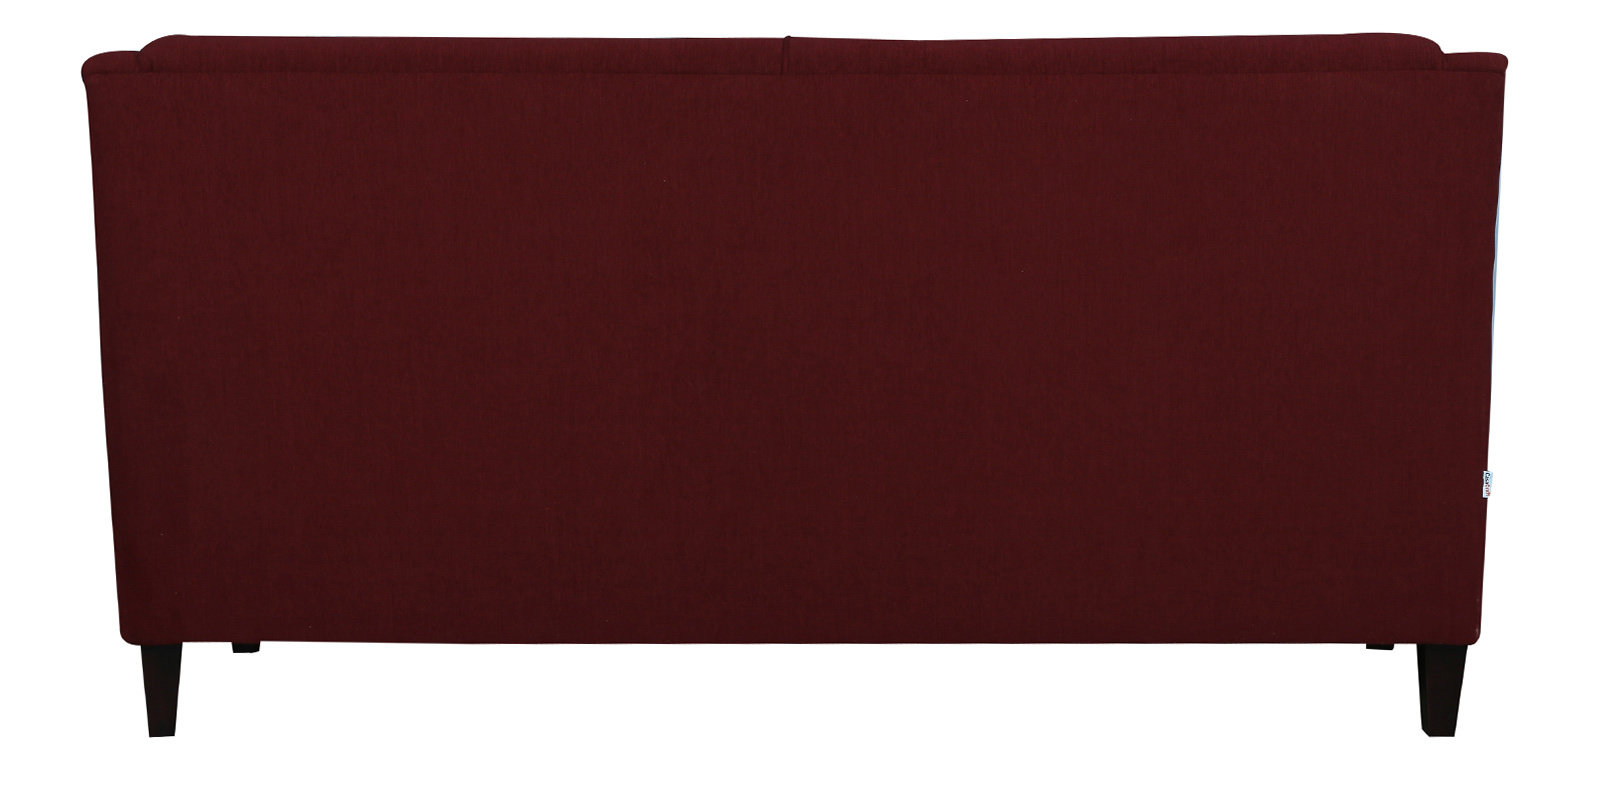Oscar Three Seater Sofa in Garnet Red Colour by CasaCraft: (84, 34, 1510, 737)
